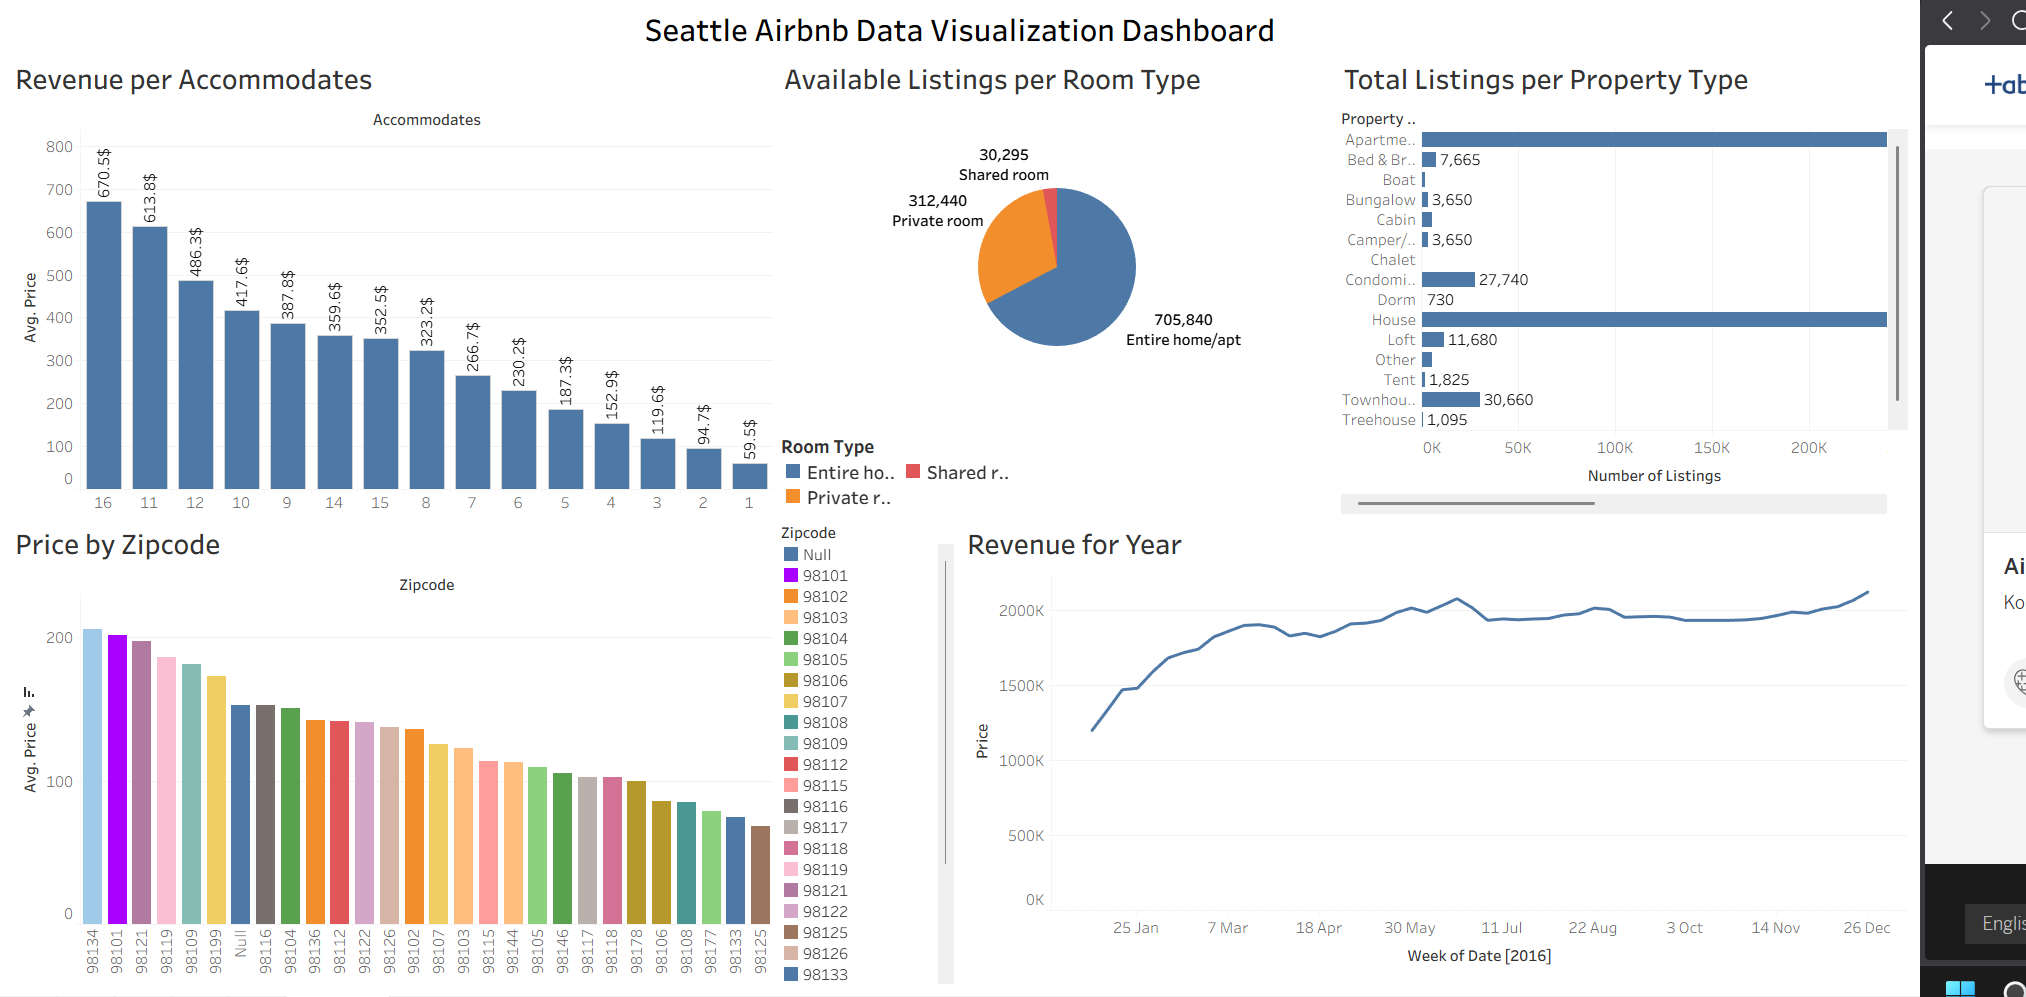

This screenshot's page, from the dashboard's own definition file:
{"tool":"tableau","page":{"name":"Dashboard 1","canvas":[1000,1000],"units":"permille","ordinal":0},"visuals":[{"type":"title","box":[4.8,9.6,990.3,59]},{"type":"worksheet","title":"Sheet 3","mark":"Automatic","rows":["price (Calendar)"],"cols":["accommodates"],"box":[4.8,68.6,400.2,458.4]},{"type":"worksheet","title":"Sheet 5","mark":"Pie","box":[405,68.6,291.2,370.3]},{"type":"worksheet","title":"Sheet 4","mark":"Automatic","rows":["property_type"],"cols":["listing_id"],"box":[696.2,68.6,299,458.4]},{"type":"legend","title":"Sheet 5","param":"[federated.0mmtg0007lc2gf1bxmidc1bop2hg].[none:room_type:nk]","box":[405,438.9,291.2,88.1]},{"type":"worksheet","title":"Sheet 1","mark":"Automatic","rows":["price (Calendar)"],"cols":["zipcode"],"box":[4.8,527,399.9,463.4]},{"type":"legend","title":"Sheet 1","param":"[federated.0mmtg0007lc2gf1bxmidc1bop2hg].[none:zipcode:ok]","box":[404.7,527,95.3,463.4]},{"type":"worksheet","title":"Sheet 2","mark":"Automatic","rows":["price (Calendar)"],"cols":["date"],"box":[500,527,495.2,463.4]}]}

Visuals, with their boxes on the dashboard's canvas, which has no fixed pixel size, in thousandths of its width and height (x1, y1, x2, y2). These are canvas units, not pixel positions in the 2026x997 screenshot, which may show the page scaled, cropped or inside an application window:
title: BBox(5, 10, 995, 69)
"Sheet 3" worksheet: BBox(5, 69, 405, 527)
"Sheet 5" worksheet (Pie marks): BBox(405, 69, 696, 439)
"Sheet 4" worksheet: BBox(696, 69, 995, 527)
"Sheet 5" legend: BBox(405, 439, 696, 527)
"Sheet 1" worksheet: BBox(5, 527, 405, 990)
"Sheet 1" legend: BBox(405, 527, 500, 990)
"Sheet 2" worksheet: BBox(500, 527, 995, 990)
